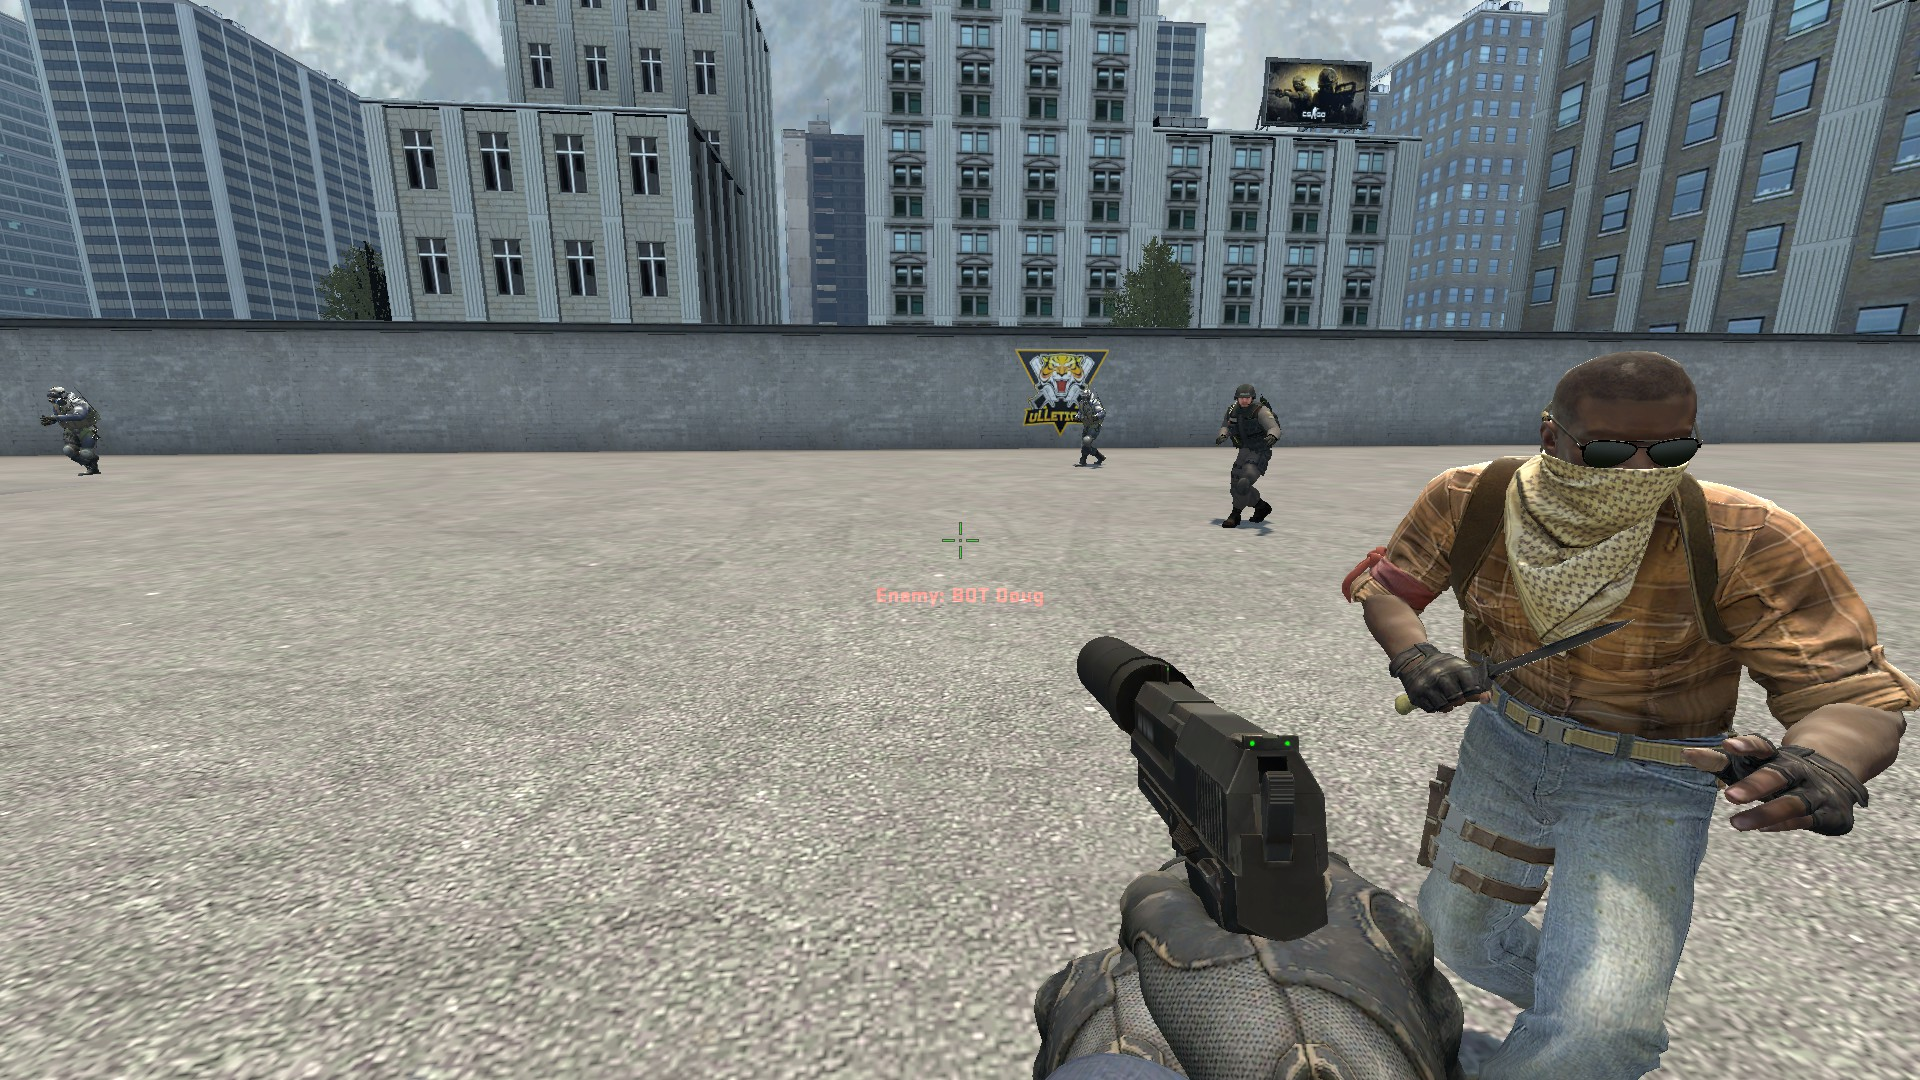ct: (1213, 382, 1285, 534)
ct head: (1231, 384, 1264, 414)
tr: (1335, 341, 1919, 1080)
tr head: (1531, 345, 1703, 546)
